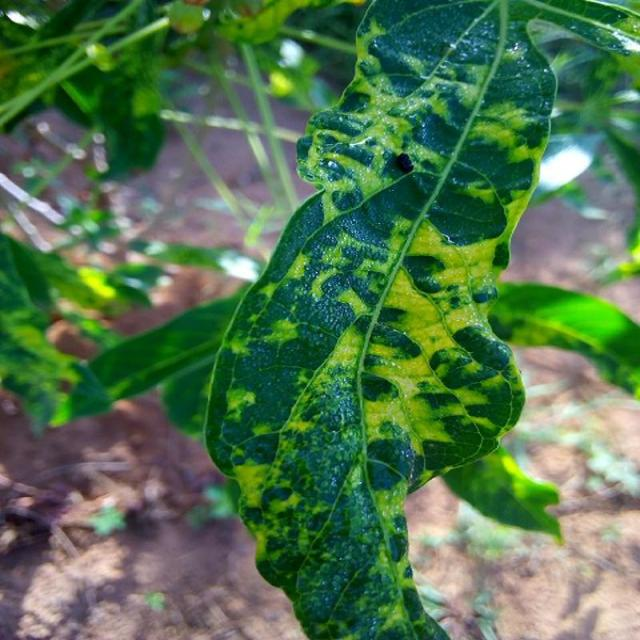cassava leaf: (199, 0, 637, 638)
